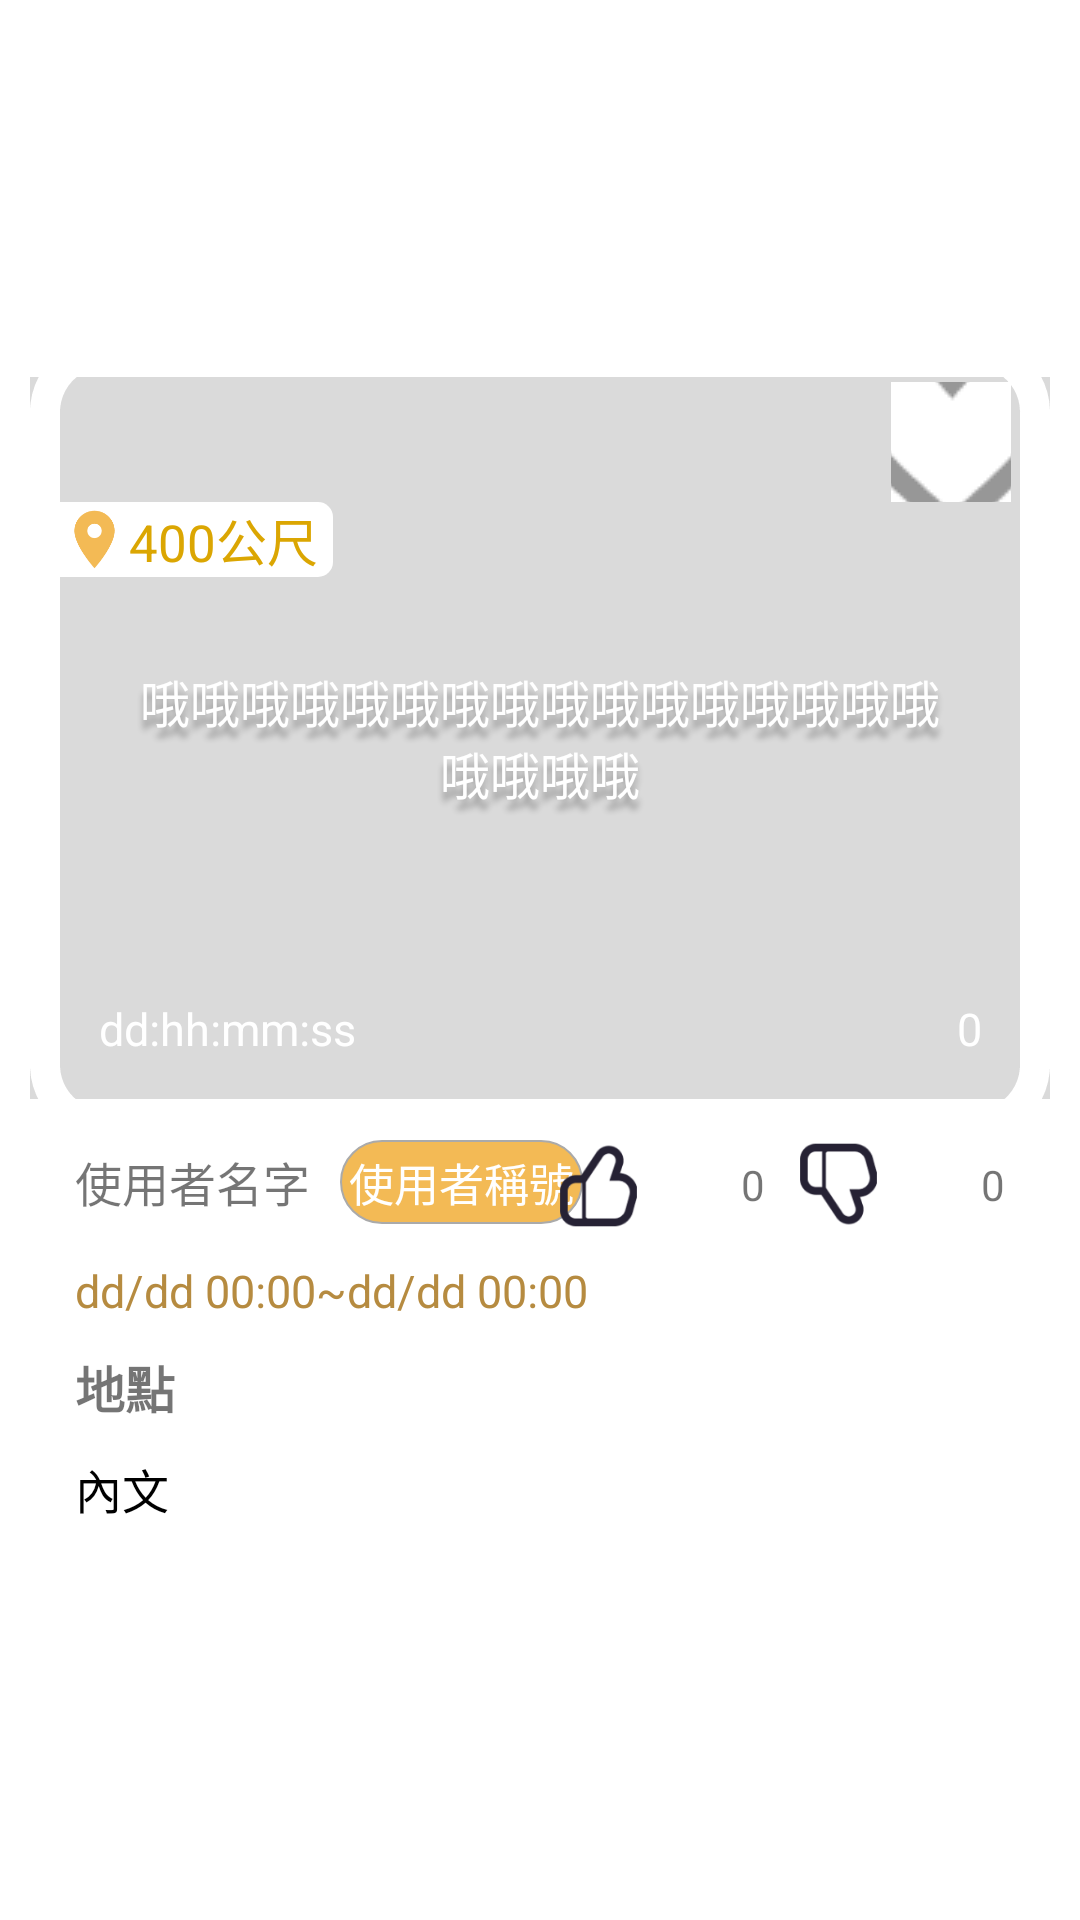

Named icons in this screenshot (1080 x 1920) and their bounding boxes, (x1, y1, x2, y2):
address: (74, 510, 115, 568)
bad: (800, 1143, 877, 1225)
good: (555, 1142, 637, 1227)
